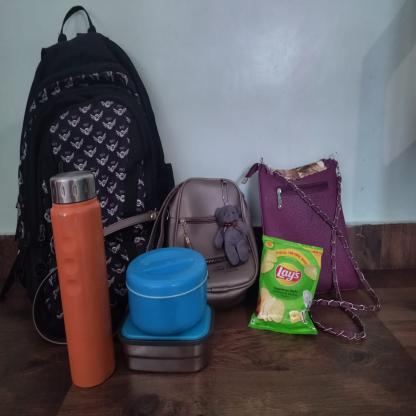cream_and_onion: (247, 235, 324, 335)
